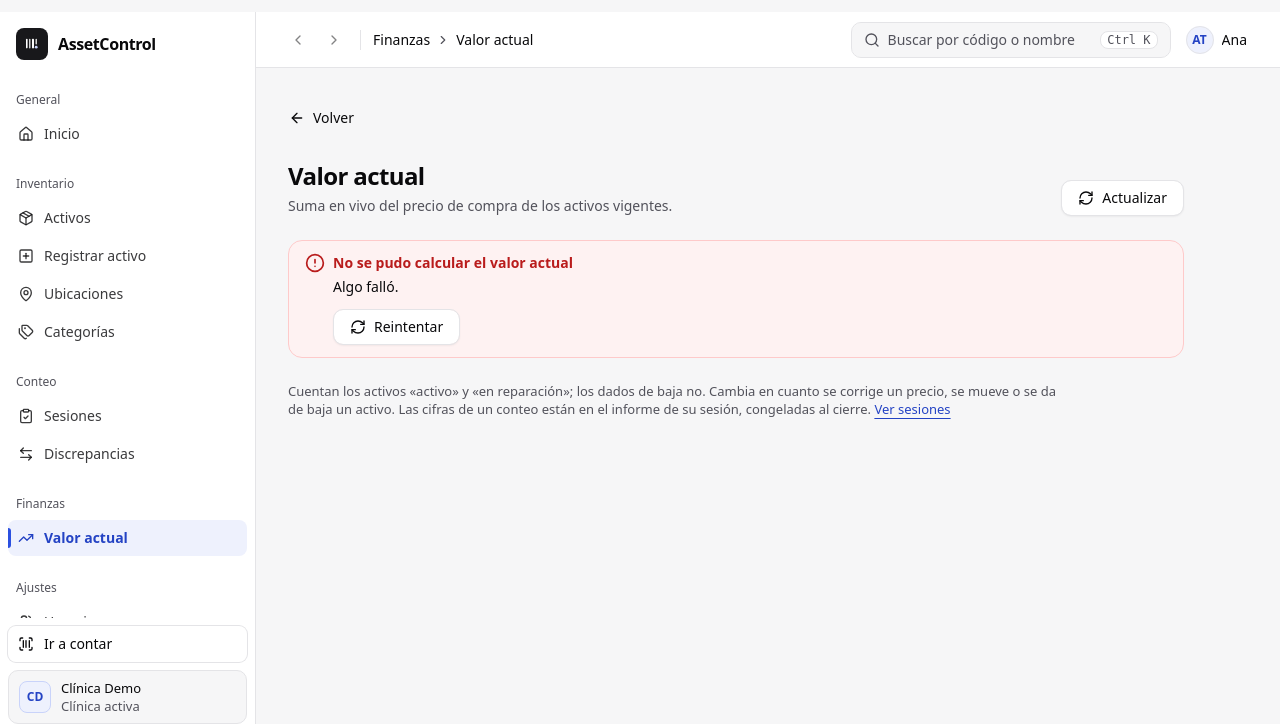
Scenario: Valor actual (spec 008, T6) › si falla ofrece reintentar
The width and height of the screenshot is (1280, 724).
Expected: the text "No se pudo calcular el valor actual" is shown, [333,253,573,272]
Click the button "Reintentar": (397, 327) [333,309,460,345]
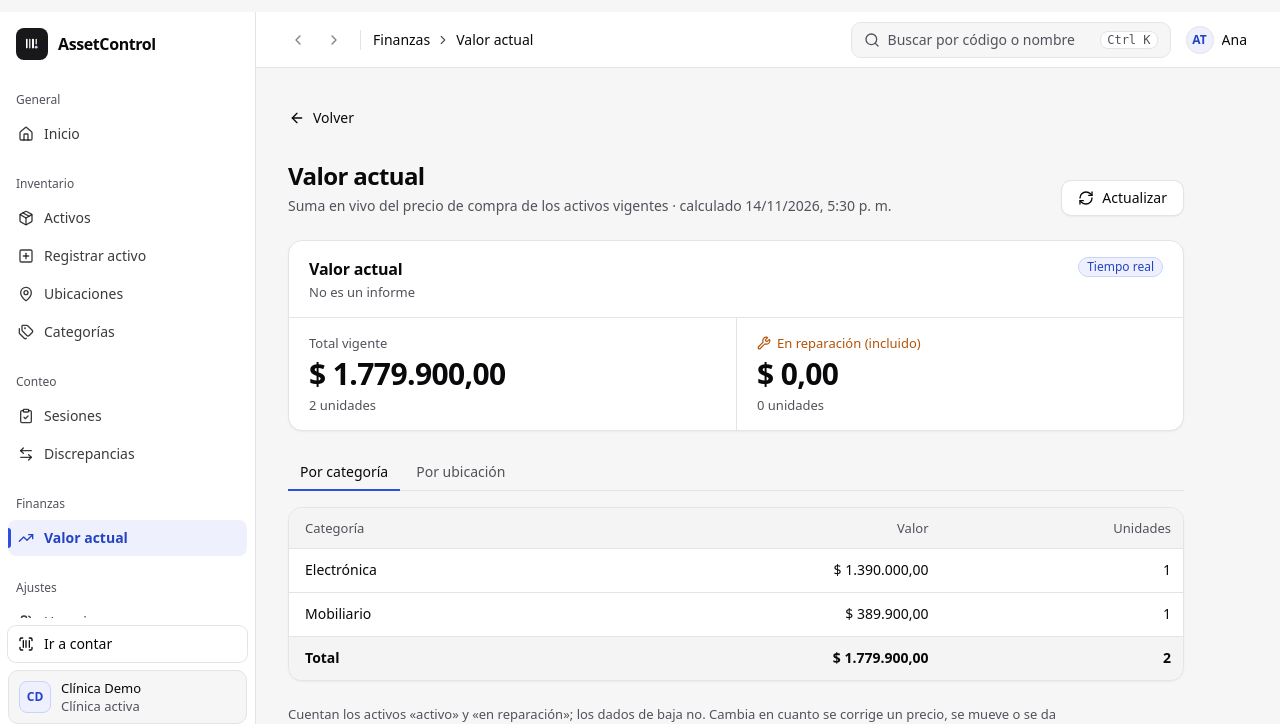
Now the element "Valor actual" is shown, box [288,240,1184,431]
